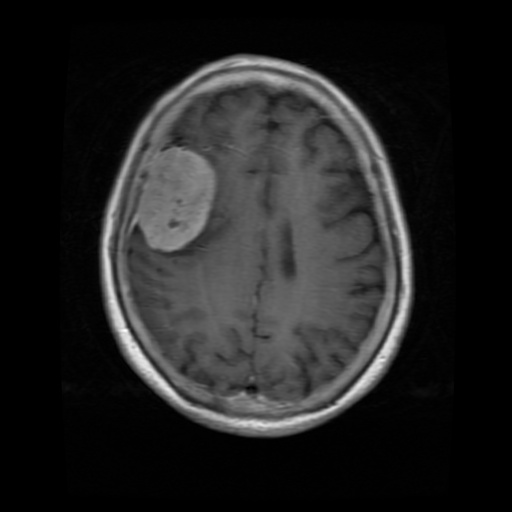meningioma: (138, 146, 216, 251)
